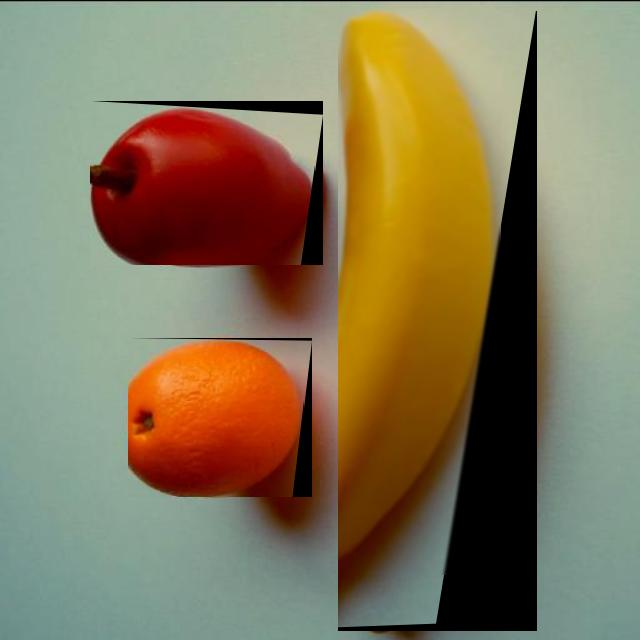Apple: (91, 107, 315, 265)
Banana: (338, 11, 501, 575)
Orange: (129, 340, 304, 497)
